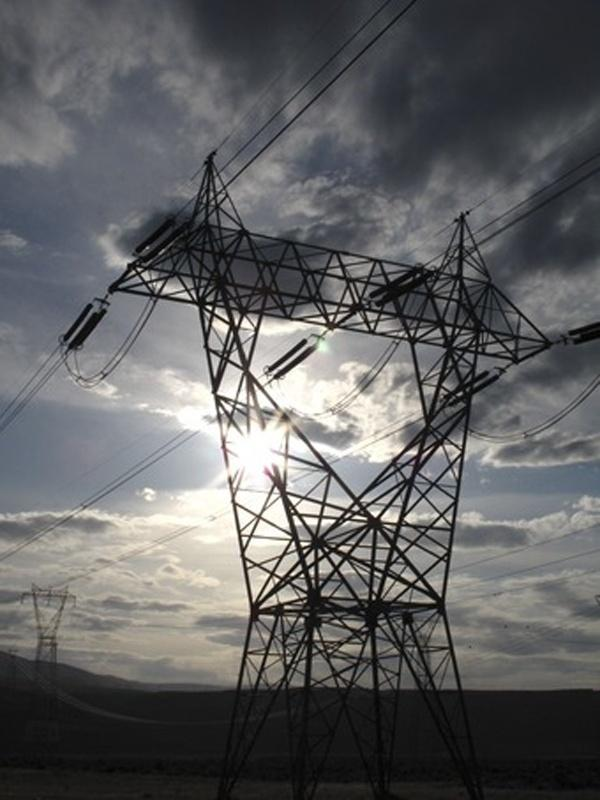power_tower: (56, 151, 598, 799), (18, 581, 78, 727)
